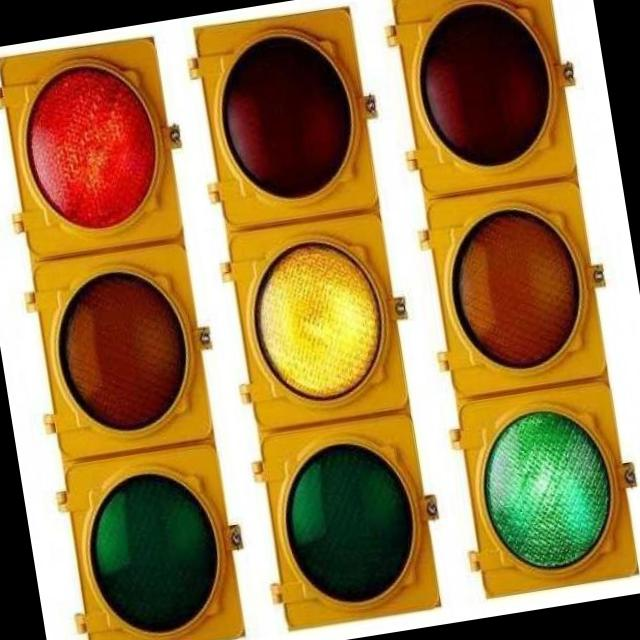green-lights: (464, 382, 632, 592)
red-lights: (2, 40, 177, 258)
yellow-lights: (230, 202, 406, 423)
